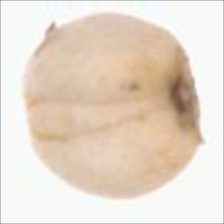L5: (22, 95, 170, 142), (168, 39, 206, 148)
L6: (21, 12, 206, 201)
